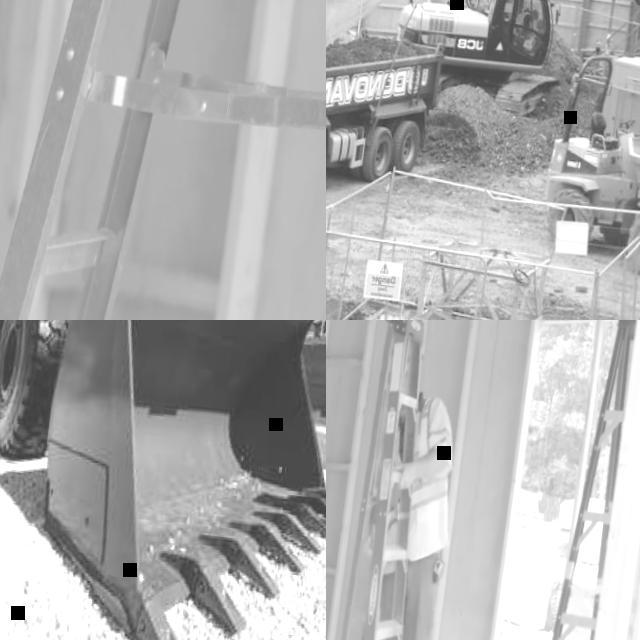helmet: (387, 336, 427, 389)
vest: (361, 390, 466, 584), (512, 12, 532, 36)
